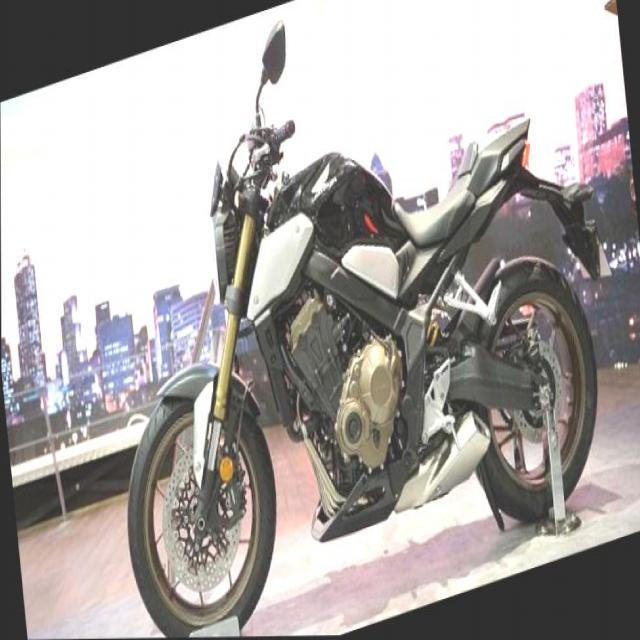CB650R: (91, 12, 613, 638)
